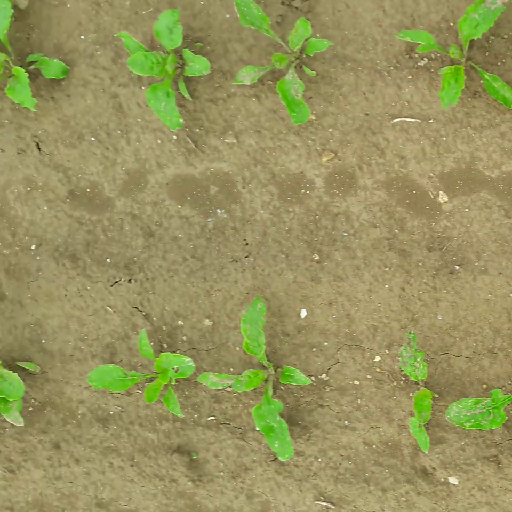sugarbeet: (194, 291, 312, 460), (107, 8, 218, 136), (391, 1, 512, 114), (227, 1, 328, 128), (85, 322, 198, 420), (1, 1, 72, 114), (392, 327, 442, 458), (445, 385, 512, 433)
